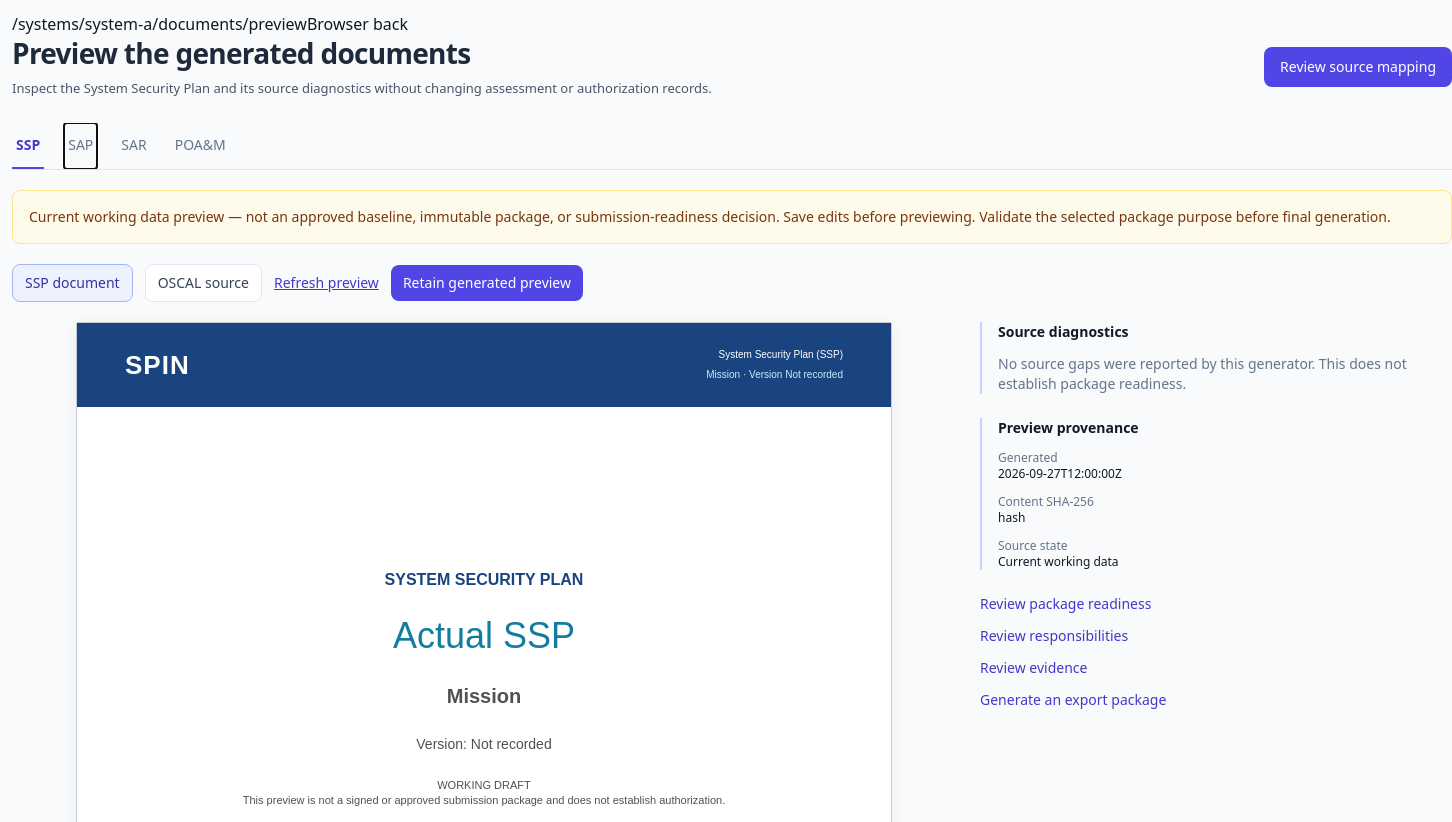
Scenario: document preview choices › preserves focus on the document tab when switching panels
expect the heading "Actual SSP" is shown: met, box [393,616,575,658]
Click the tab "SAP": x=81, y=146 [64,122,97,168]
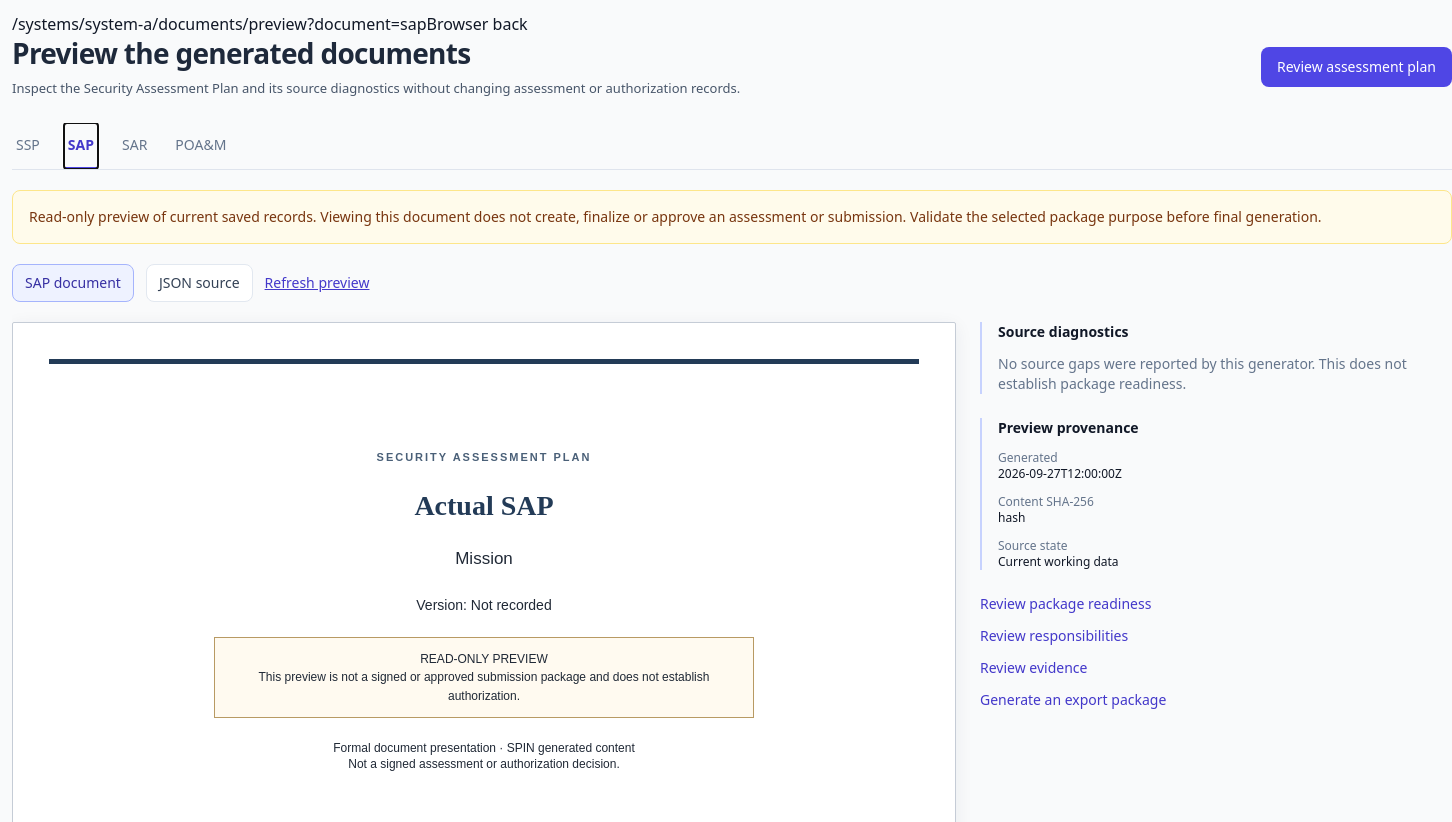
expect the heading "Actual SAP" is shown: met, box [414,488,554,524]
